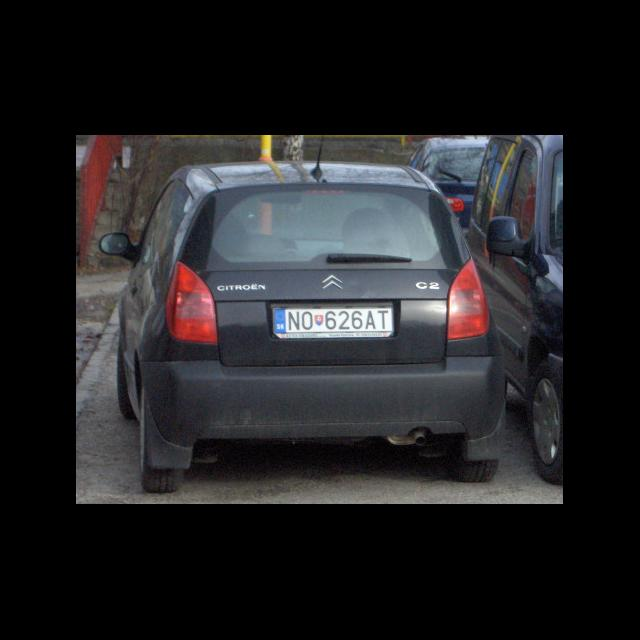Plate: (269, 302, 396, 340)
